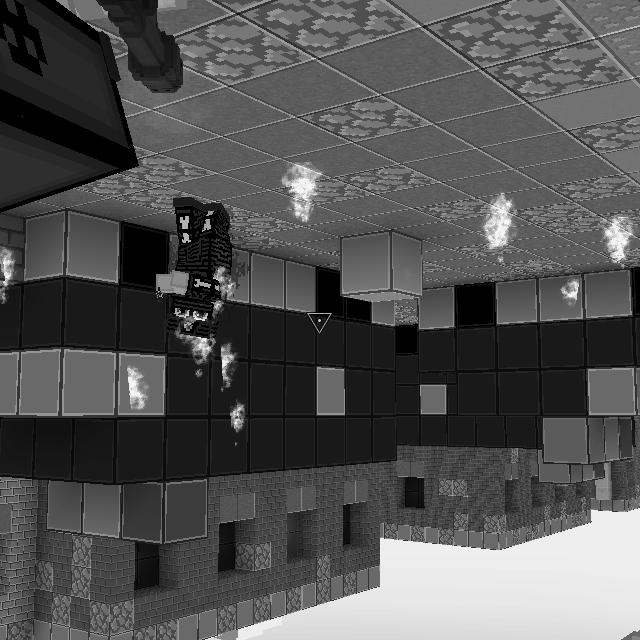enemy: (155, 197, 236, 348)
